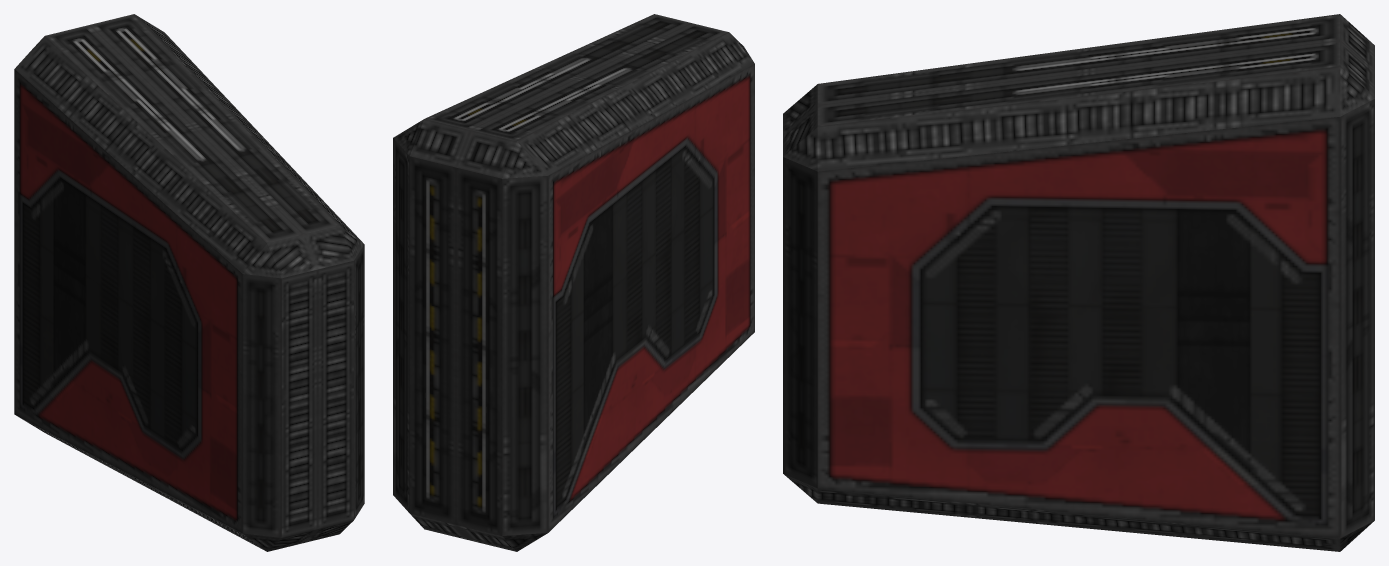
Rendered from BFP_ConstBridge01.FBX.
3 renders of one model, left to right at view 1: azimuth 30°, elevation 25°; view 2: azimuth 150°, elevation 25°; view 3: azimuth 270°, elevation 25°, orthographic. The views are drawn at different scales.
Visible parts, largest first — view 1: BFP_ConstBridge01; view 2: BFP_ConstBridge01; view 3: BFP_ConstBridge01.
Part boxes in pixels (x1,y1,x2,y2): BFP_ConstBridge01: (14, 14, 364, 551); BFP_ConstBridge01: (393, 14, 754, 551); BFP_ConstBridge01: (783, 14, 1374, 551).
Bounding box in the file's own units: 48.59 × 123 × 136.
1 material, 1 textured.
